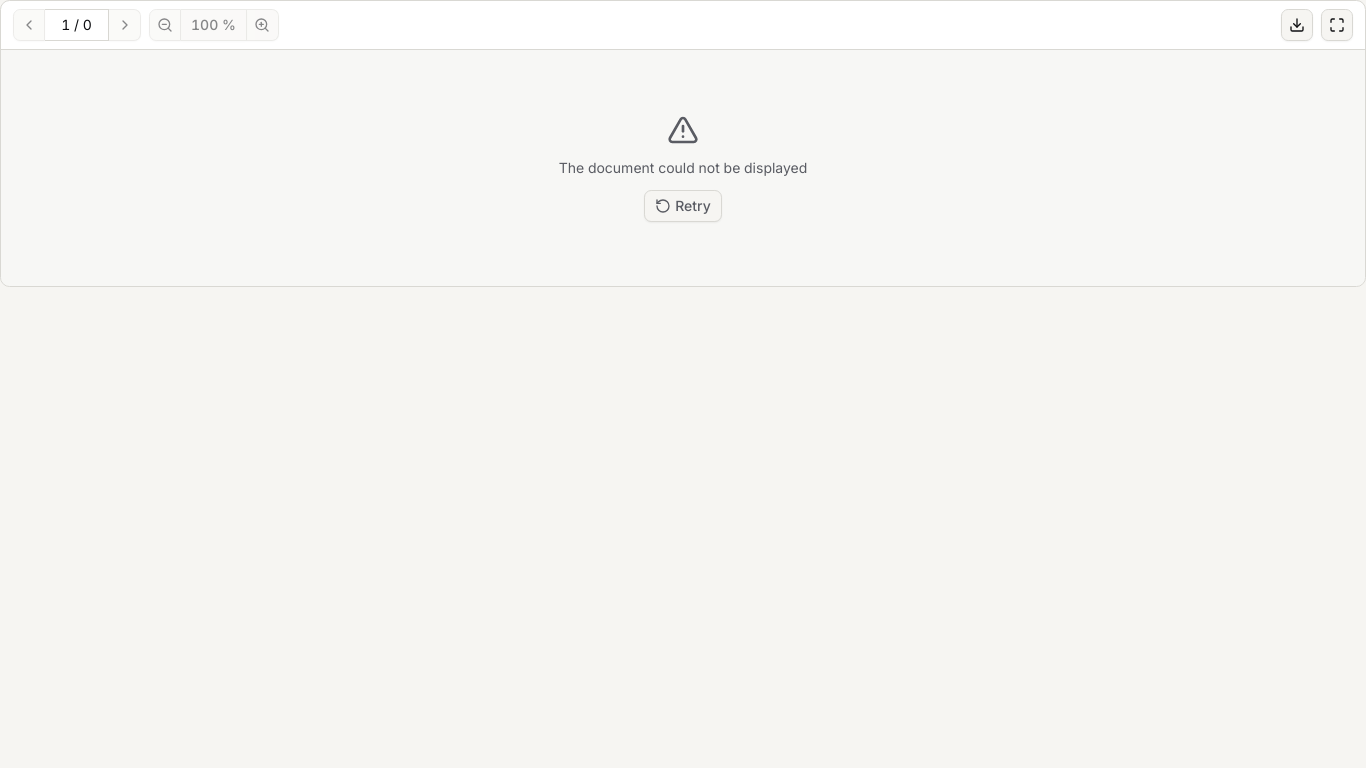
it: PdfViewerCore › shows an error state and retries the load
Expected: the message shows "The document could not be displayed", [559,159,807,176]
Click the button "Retry" at (683, 206), box [644,190,722,222]
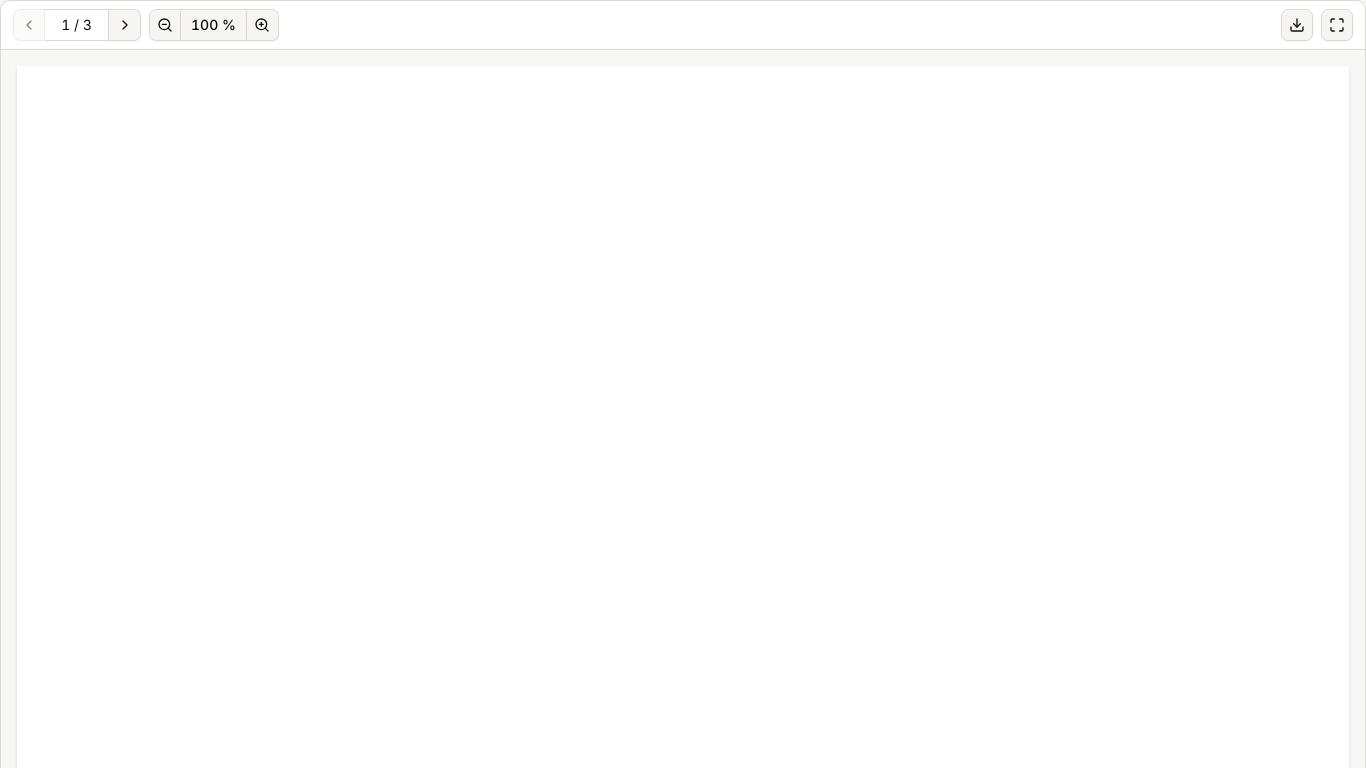
Result: the text "1 / 3" is shown at [61,15,92,35]
